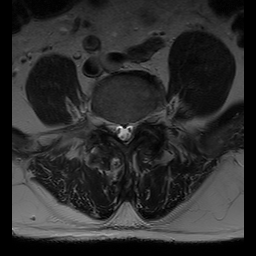CCS_normal: (121, 116, 129, 149)
LFS_stenosis: (136, 108, 144, 134)
LLS_normal: (129, 115, 136, 147)
RFS_normal: (106, 110, 114, 139)
RLS_normal: (114, 115, 121, 144)
